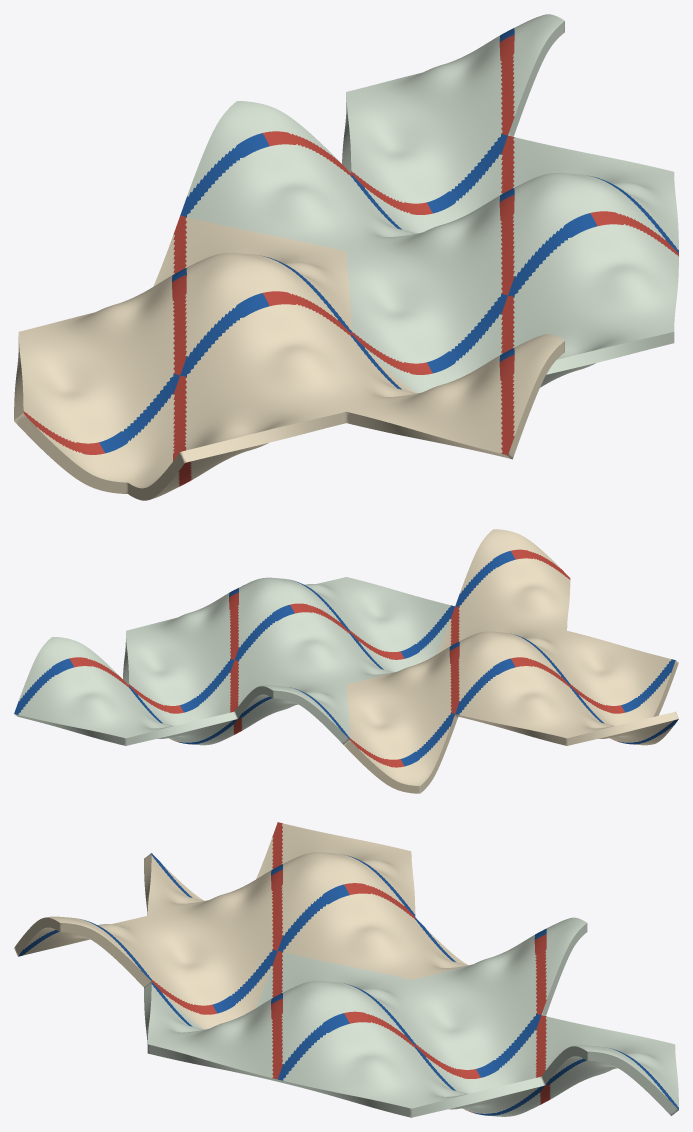
The model's file is gcts-wave-pair.glb.
3 views of the same model, one above another, from view 1: azimuth 30°, elevation 25°; view 2: azimuth 150°, elevation 25°; view 3: azimuth 270°, elevation 25° (orthographic). The views are drawn at different scales.
Visible parts, largest first — view 1: Turtle upper 3, Hat upper 0, Hat edge 0, Turtle upper 2, Turtle upper 1, Hat upper 2, Hat upper 1, Turtle edge 3, Hat lower 0; view 2: Turtle upper 3, Hat upper 0, Turtle upper 1, Hat edge 0, Hat upper 1, Turtle edge 3, Turtle upper 2, Hat upper 2, Turtle lower 3, Hat lower 0; view 3: Turtle upper 3, Hat upper 0, Turtle edge 3, Turtle upper 2, Turtle upper 1, Hat upper 1, Turtle lower 3, Hat upper 2, Hat edge 0, Hat lower 0, Turtle lower 1.
Boxes of the visible parts, x1=… form: Turtle upper 3: x1=187, y1=14, x2=678, y2=393; Hat upper 0: x1=18, y1=217, x2=564, y2=488; Hat edge 0: x1=14, y1=337, x2=564, y2=500; Turtle upper 2: x1=262, y1=34, x2=678, y2=374; Turtle upper 1: x1=180, y1=28, x2=678, y2=373; Hat upper 2: x1=23, y1=215, x2=514, y2=460; Hat upper 1: x1=99, y1=256, x2=514, y2=453; Turtle edge 3: x1=342, y1=21, x2=674, y2=374; Hat lower 0: x1=151, y1=443, x2=268, y2=499; Turtle upper 3: x1=18, y1=577, x2=450, y2=738; Hat upper 0: x1=346, y1=529, x2=671, y2=785; Turtle upper 1: x1=14, y1=580, x2=454, y2=739; Hat edge 0: x1=343, y1=660, x2=678, y2=793; Hat upper 1: x1=401, y1=551, x2=675, y2=766; Turtle edge 3: x1=14, y1=639, x2=349, y2=745; Turtle upper 2: x1=69, y1=592, x2=404, y2=713; Hat upper 2: x1=349, y1=549, x2=624, y2=767; Turtle lower 3: x1=157, y1=694, x2=298, y2=745; Hat lower 0: x1=598, y1=720, x2=674, y2=745; Turtle upper 3: x1=147, y1=917, x2=678, y2=1108; Hat upper 0: x1=46, y1=823, x2=468, y2=1029; Turtle edge 3: x1=144, y1=923, x2=678, y2=1117; Turtle upper 2: x1=271, y1=934, x2=546, y2=1079; Turtle upper 1: x1=151, y1=928, x2=678, y2=1109; Hat upper 1: x1=83, y1=853, x2=455, y2=1013; Turtle lower 3: x1=449, y1=1056, x2=617, y2=1116; Hat upper 2: x1=151, y1=822, x2=415, y2=1014; Hat edge 0: x1=14, y1=853, x2=151, y2=986; Hat lower 0: x1=23, y1=927, x2=90, y2=955; Turtle lower 1: x1=474, y1=1058, x2=586, y2=1115.
Bounding box in the file's own units: 0.1085 × 0.0214 × 0.1048.
